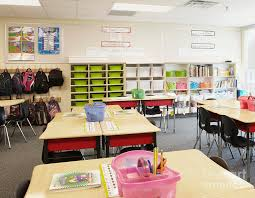desk: (100, 114, 160, 152), (48, 118, 101, 159), (222, 108, 254, 167), (135, 93, 175, 134)
